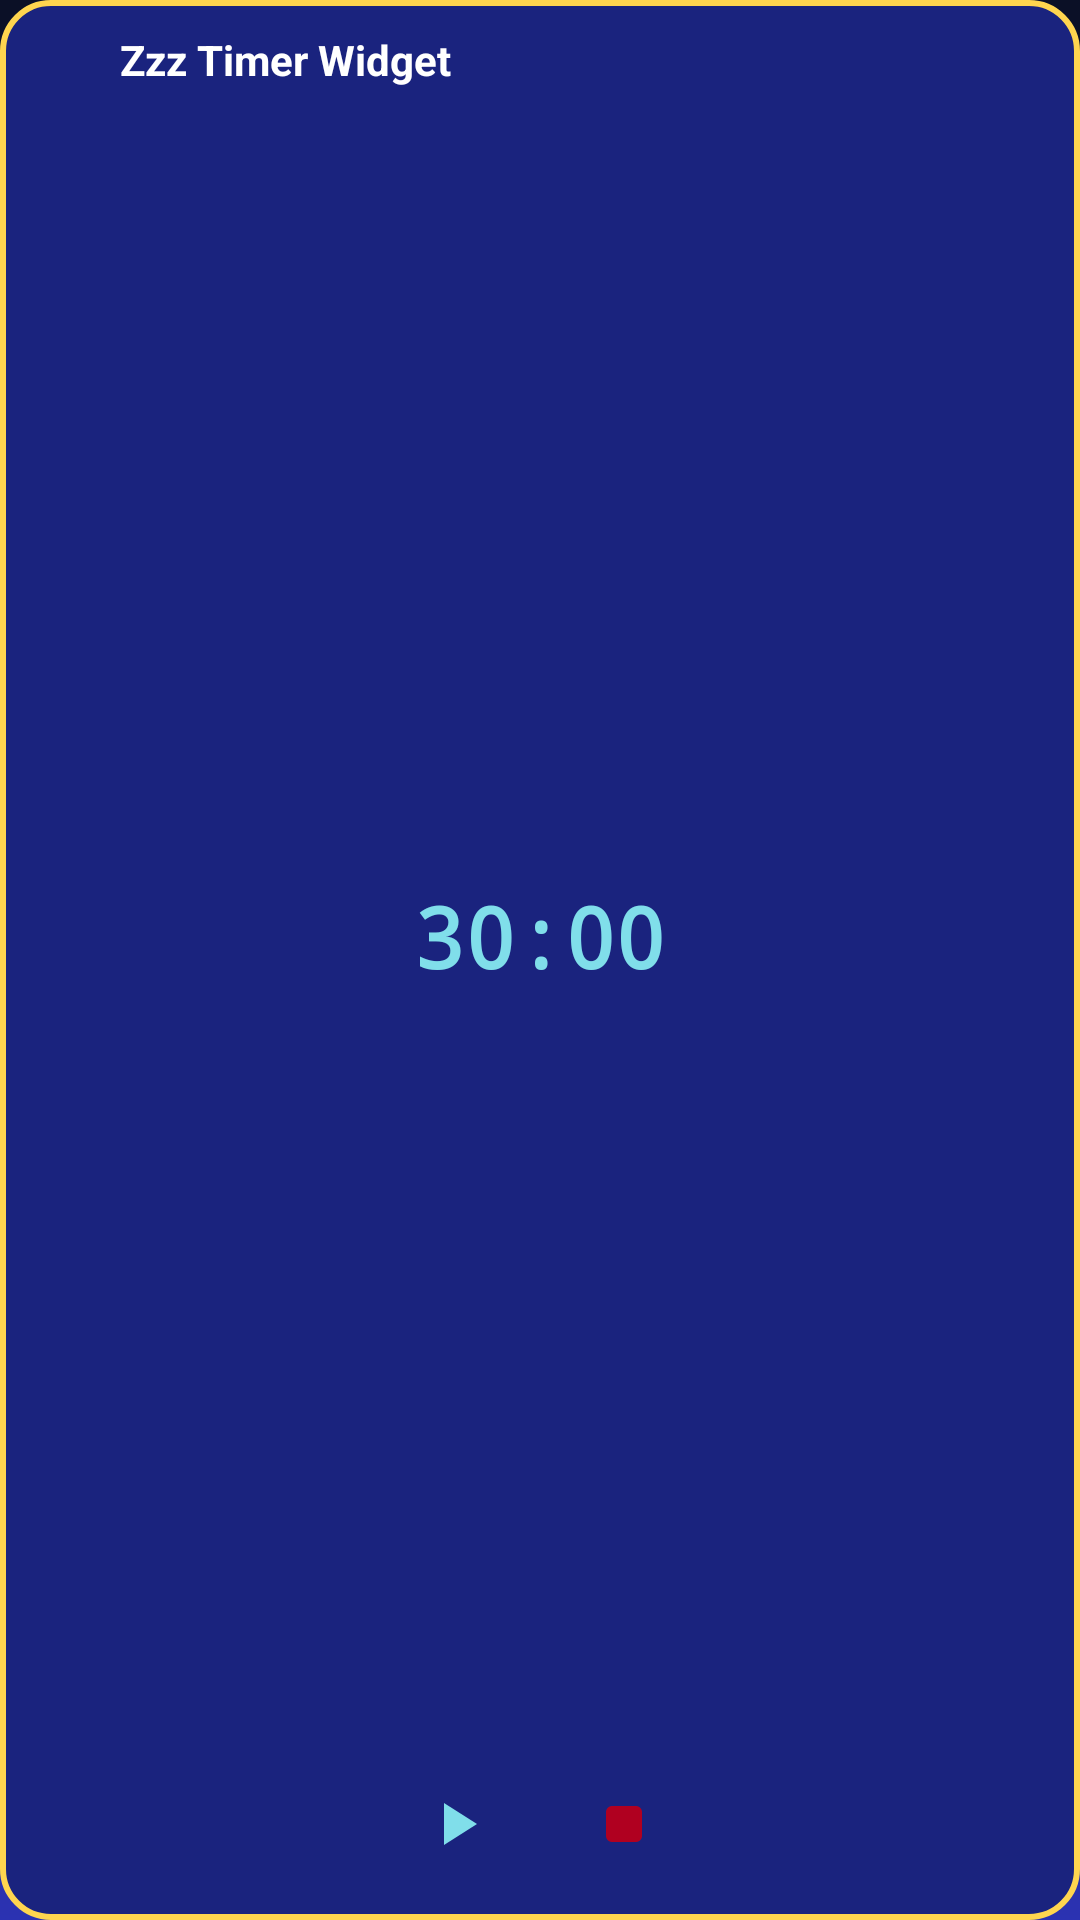

Named icons in this screenshot (1080px×1920px) and their centers, (x,y):
Start: (460,1824)
Stop: (624,1824)
